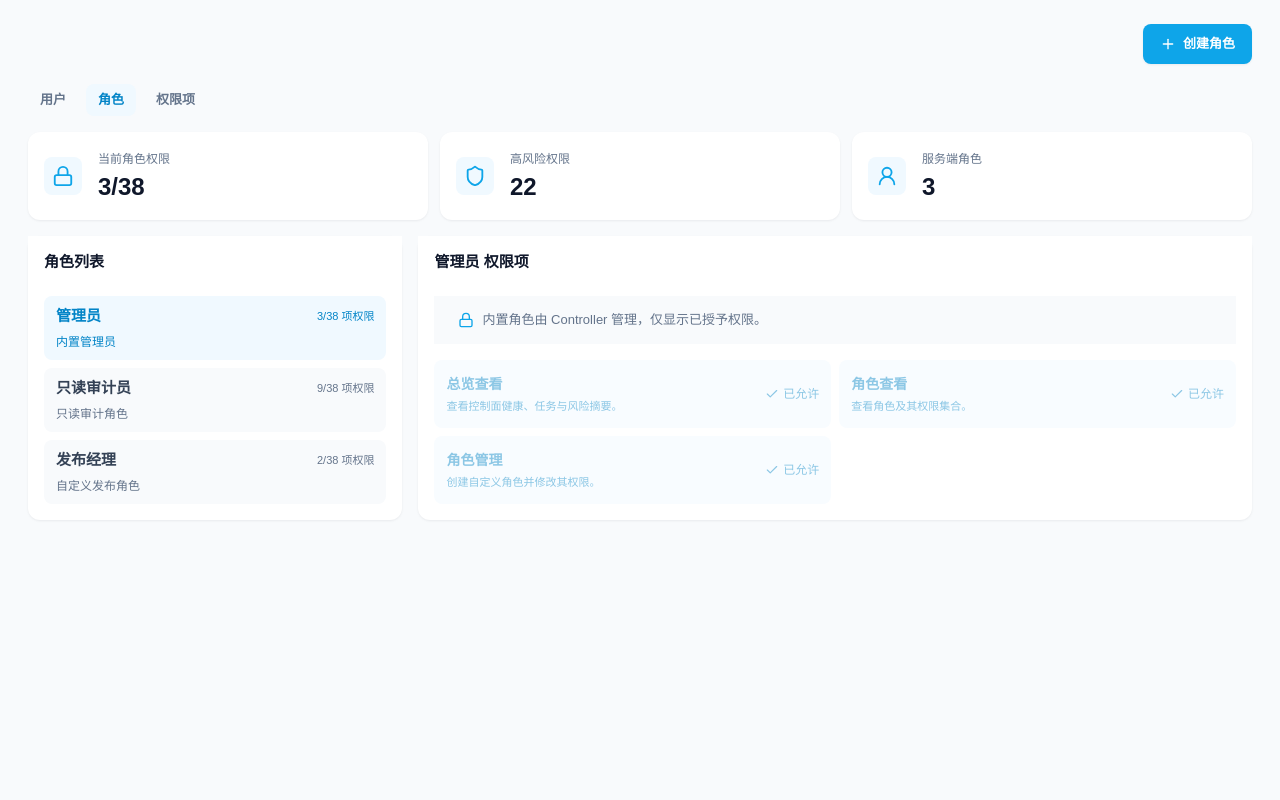
it: ACL workbench › loads Controller roles and keeps built-in roles read-only
Expected: the button "管理员 3/38 项权限 内置管理员" is shown, [44,296,386,360]
Click the button "只读审计员 9/38 项权限 只读审计角色".
click(94, 388)  # box [44,368,386,432]
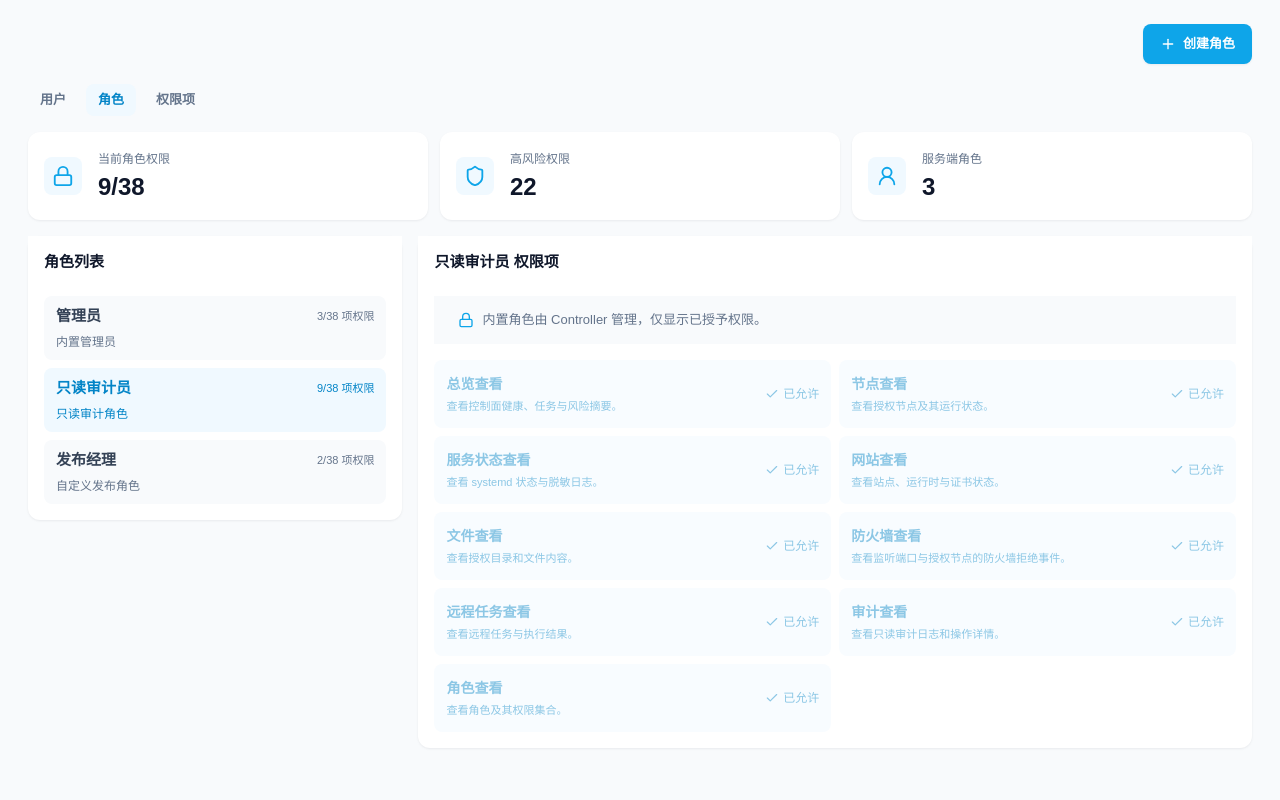
Expected: the text "内置角色由 Controller 管理，仅显示已授予权限。" is shown, [434,296,1236,344]
Expected: the number of buttons "总览查看 查看控制面健康、任务与风险摘要。 已允许" is 9
